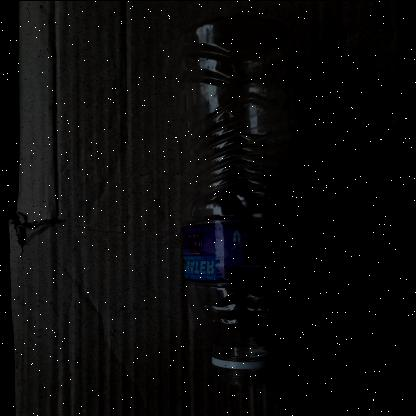Plastic Bottle: (178, 14, 300, 382)
